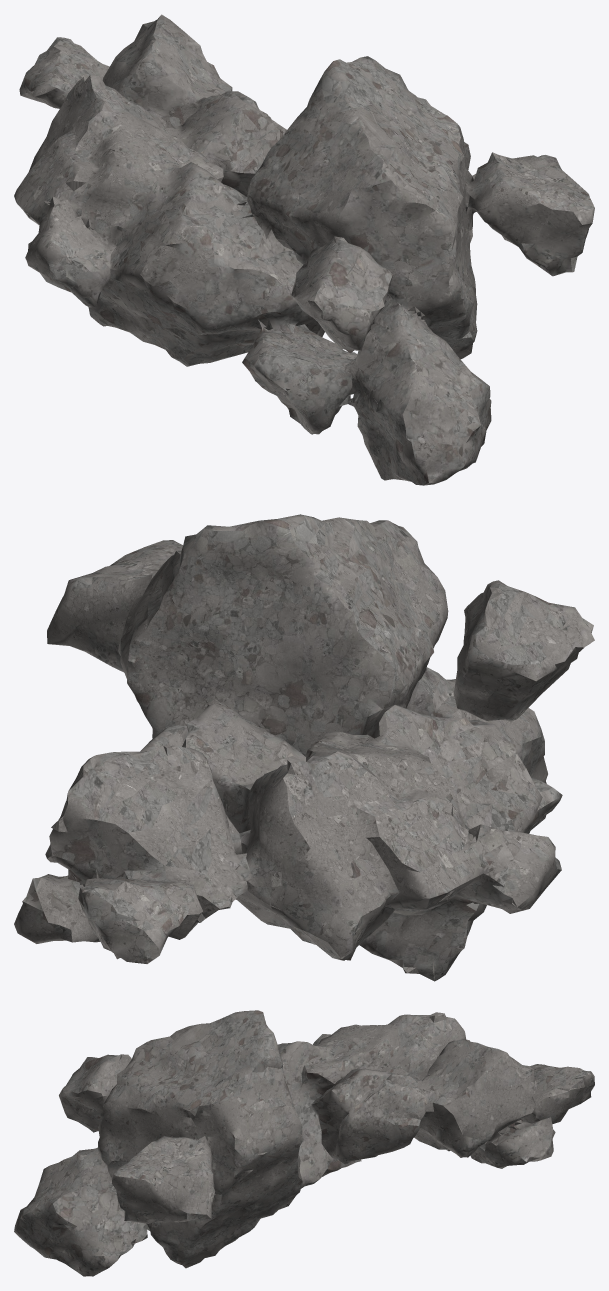
Rendered from concrete_rubble_cluster_b.glb.
3 renders of one model, top to bottom at view 1: azimuth 30°, elevation 25°; view 2: azimuth 150°, elevation 25°; view 3: azimuth 270°, elevation 25°, orthographic. The views are drawn at different scales.
Parts seen in each view (by area): view 1: rubble_cluster_b; view 2: rubble_cluster_b; view 3: rubble_cluster_b.
Boxes of the visible parts, left/top/right/bottom form: rubble_cluster_b: left=14, top=14, right=594, bottom=485; rubble_cluster_b: left=14, top=514, right=594, bottom=981; rubble_cluster_b: left=14, top=1010, right=594, bottom=1276.
Size of the model in its own units: 1.04 by 0.7245 by 1.43.
Materials: 1 (1 with a texture image).
